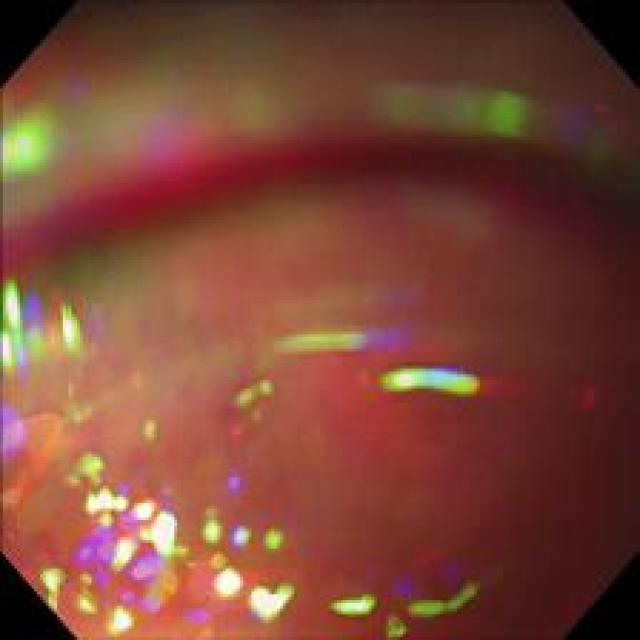color misalignment: (1, 0, 636, 632), (5, 39, 274, 238), (44, 449, 294, 624), (381, 40, 616, 190), (4, 276, 135, 494), (359, 354, 565, 410), (326, 571, 502, 635), (209, 366, 272, 510), (252, 311, 398, 354)
